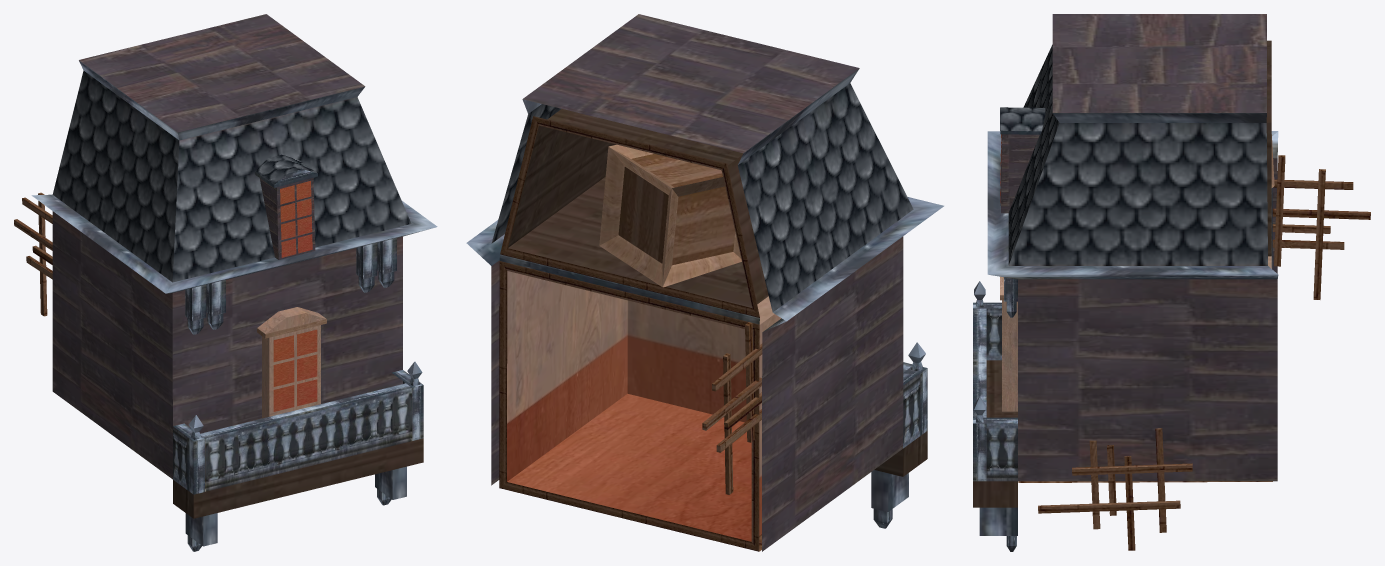
Rendered from spooky-tower-floating-cabin-01-art.glb.
3 views of the same model, side by side, from view 1: azimuth 30°, elevation 25°; view 2: azimuth 150°, elevation 25°; view 3: azimuth 270°, elevation 25° (orthographic). The views are drawn at different scales.
Visible parts, largest first — view 1: Spooky_Tower_Floating_Cabin_01_Art; view 2: Spooky_Tower_Floating_Cabin_01_Art; view 3: Spooky_Tower_Floating_Cabin_01_Art.
Boxes of the visible parts, box(x1,y1,x2,y2) form: Spooky_Tower_Floating_Cabin_01_Art: box(14, 14, 437, 551); Spooky_Tower_Floating_Cabin_01_Art: box(466, 14, 943, 551); Spooky_Tower_Floating_Cabin_01_Art: box(973, 14, 1370, 551).
Bounding box in the file's own units: 3.55 × 5.04 × 4.15.
2 materials, 2 textured.
